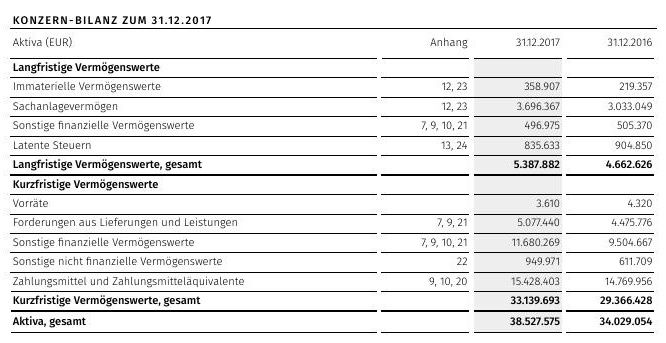table: (0, 0, 666, 343)
